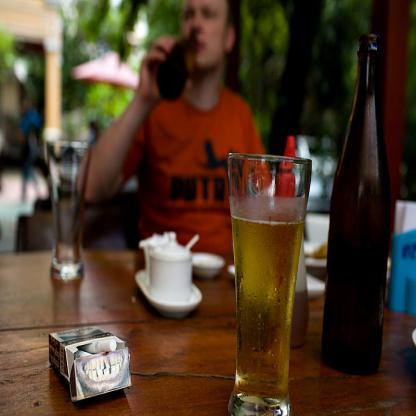drinking: (322, 33, 391, 377), (226, 152, 313, 415)
smoking: (58, 339, 118, 353)
